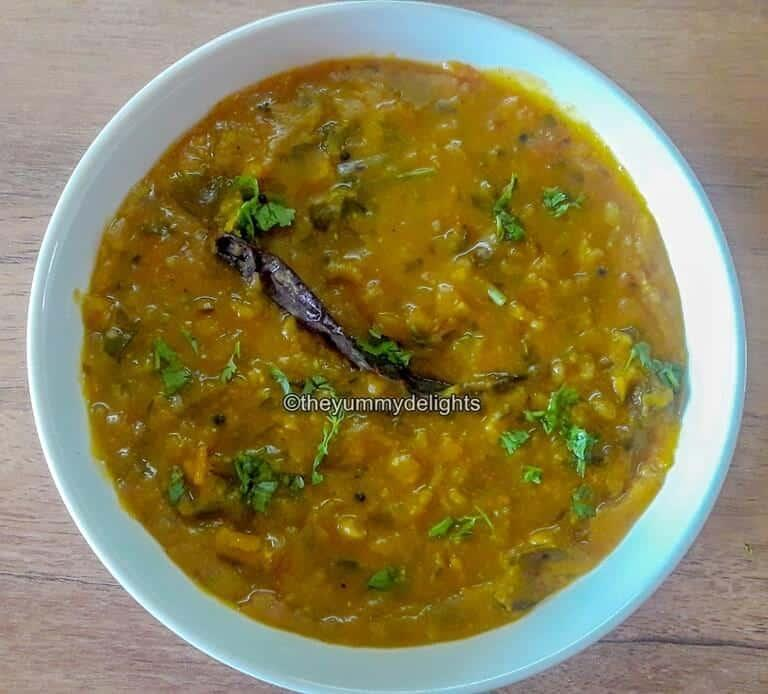dal: (85, 55, 689, 656)
